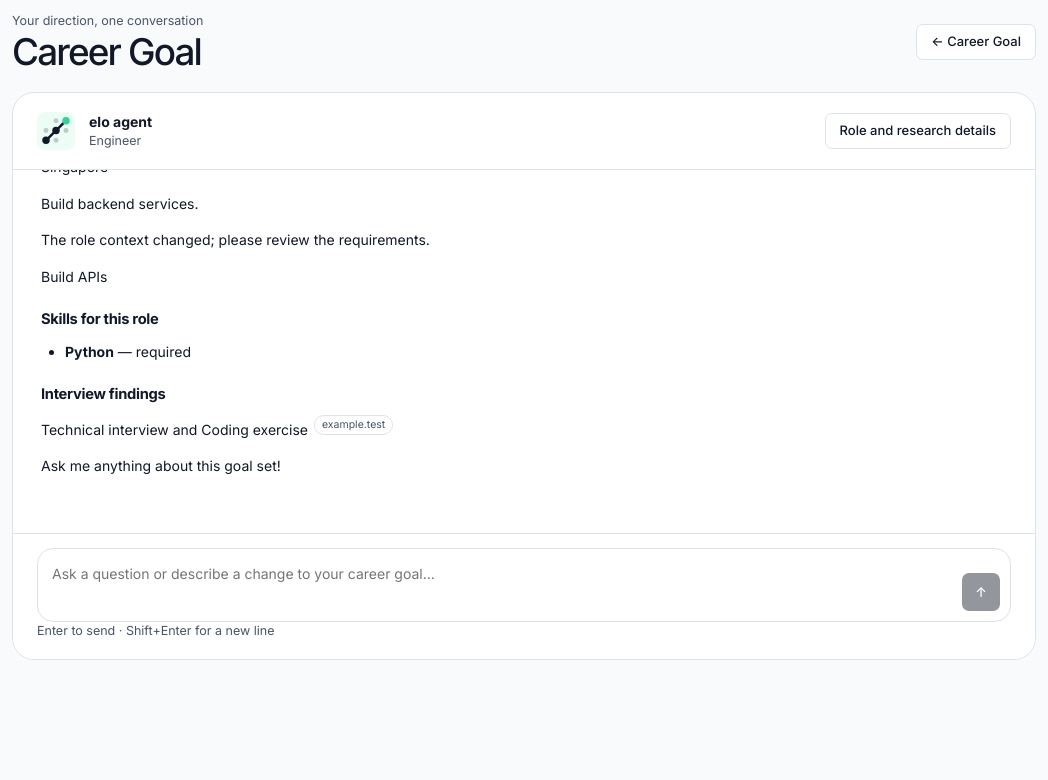
single career conversation › keeps a pending-context goal current and explains that its requirements need review
The width and height of the screenshot is (1048, 780).
(page scrolled)
Expected: the element named "Career agent conversation" shows "The role context changed", x1=41 y1=231 x2=430 y2=248
Type "Which requirements need review?" into the text box named "Message elo".
click(500, 585); type("Which requirements need review?")  # box x1=48 y1=558 x2=952 y2=611
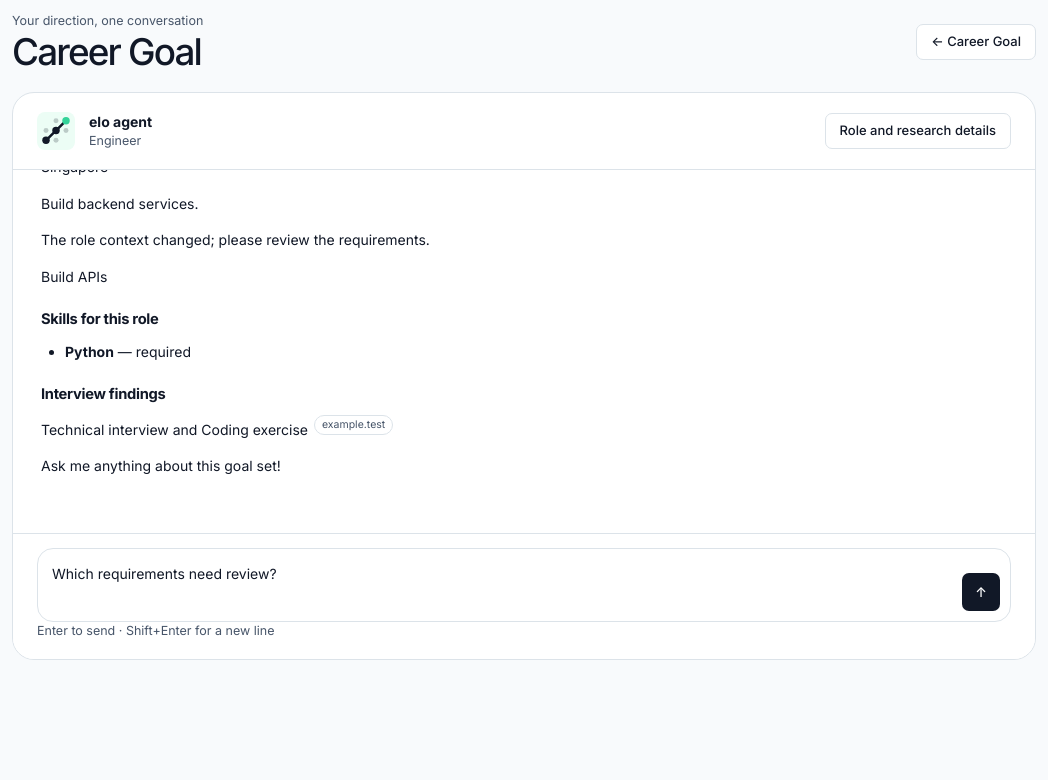
Now the button named "Send message" is enabled, box x1=962 y1=573 x2=1000 y2=611
